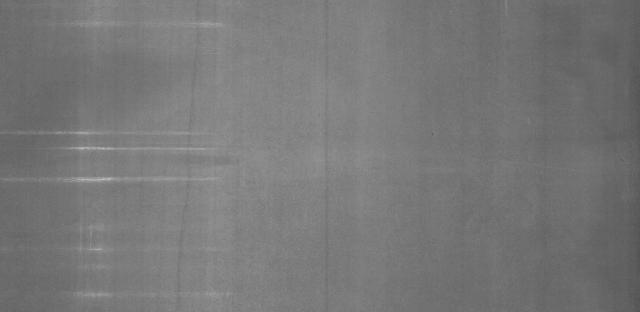waist_folding: (28, 36, 336, 309)
